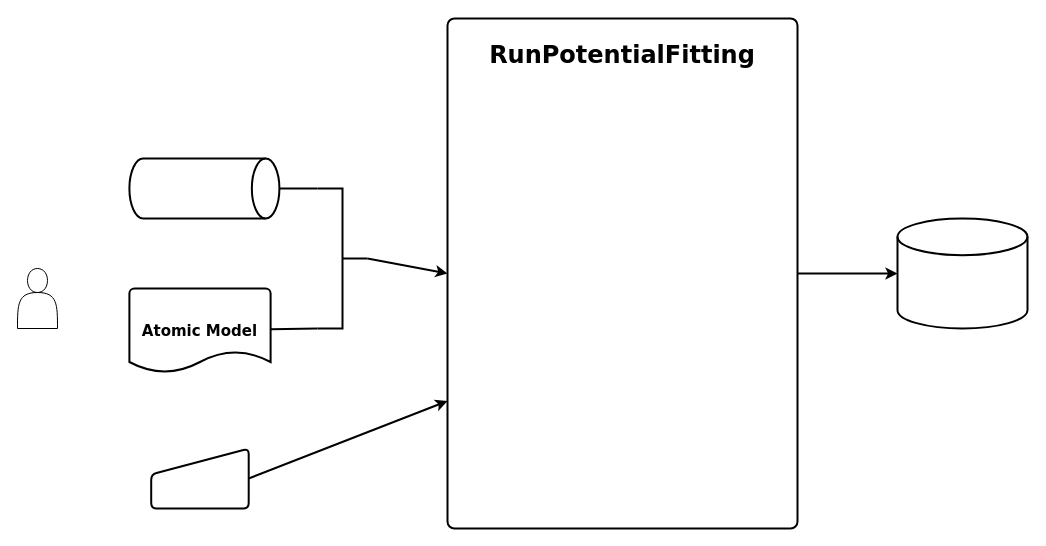
Image size: 1046x546. Some labels were removed from this diagram. Here are the shapes that lost their labels. From the top down, the box of each, then its label:
(128, 157, 280, 219): Cryo-EM Map
(896, 217, 1028, 329): Database
